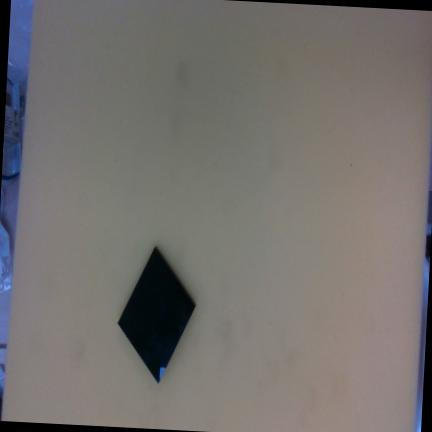tile: (102, 247, 210, 385)
